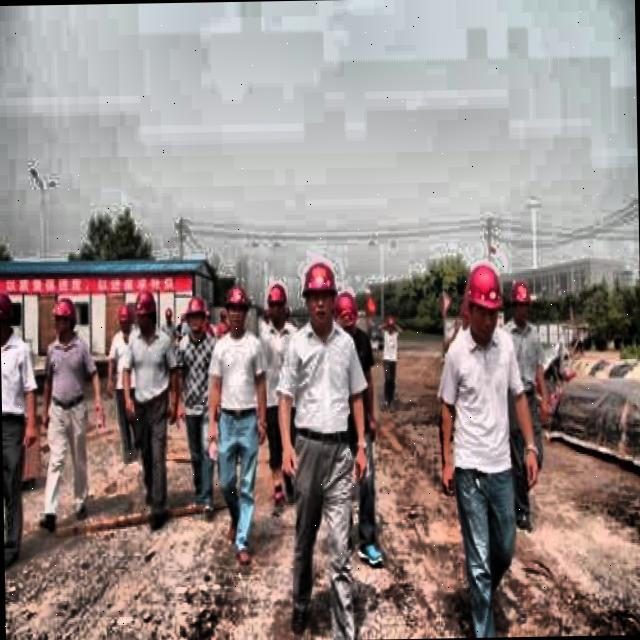helmet: (461, 261, 504, 342), (300, 253, 338, 330), (221, 279, 250, 337), (507, 272, 534, 332), (49, 294, 78, 346), (335, 283, 359, 341), (133, 284, 159, 336), (184, 290, 210, 340), (263, 279, 289, 329), (0, 283, 14, 345), (116, 295, 135, 337)
